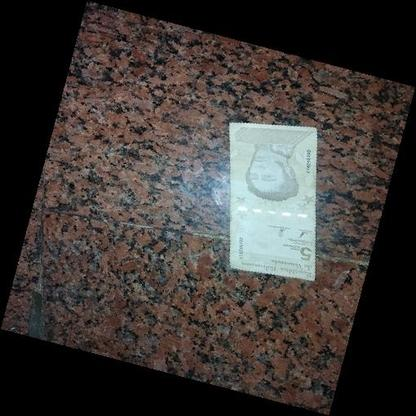five-front-vef: (228, 122, 318, 280)
